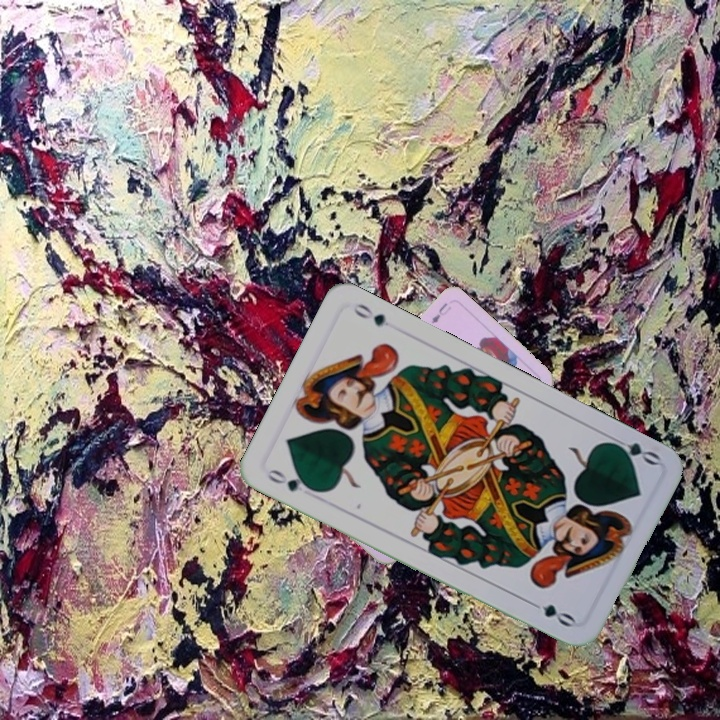EU: (427, 299, 454, 326)
GO: (604, 431, 662, 468), (263, 465, 319, 495)
